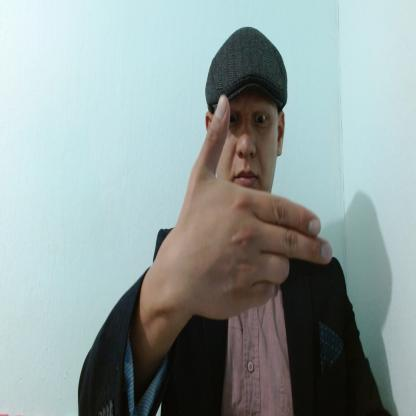H: (177, 97, 331, 319)
